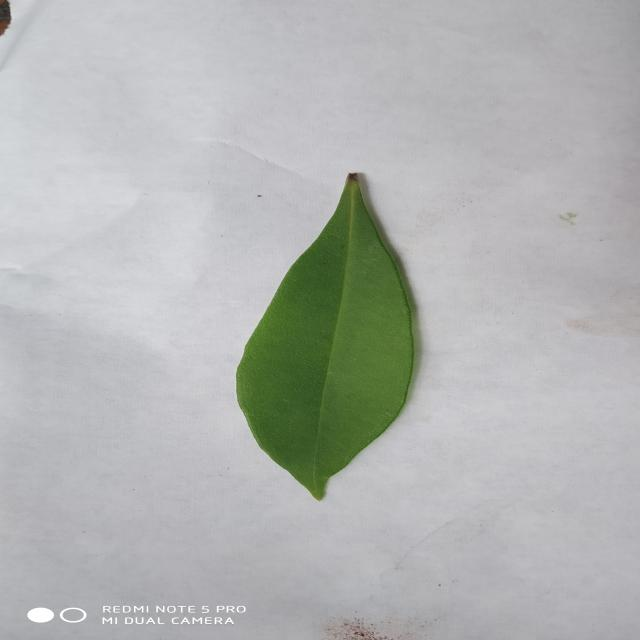nerale: (236, 174, 413, 500)
